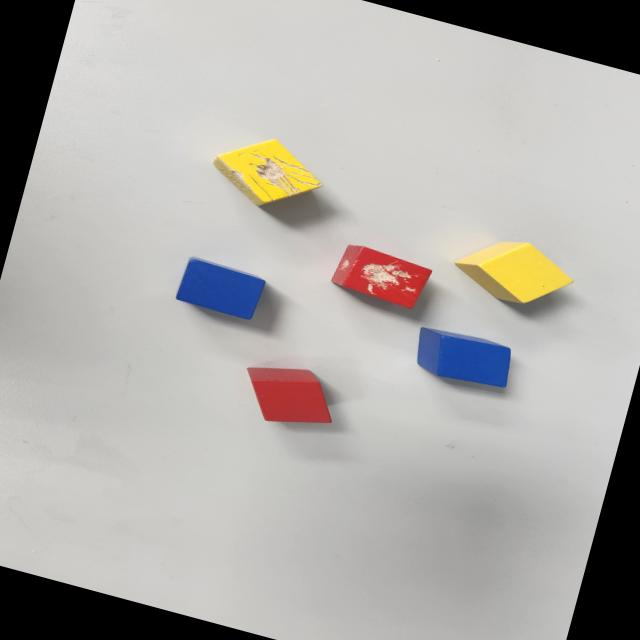blue: (408, 322, 514, 393), (174, 255, 266, 322)
broken: (205, 124, 328, 220), (329, 240, 435, 313)
red: (233, 353, 343, 438)
yellow: (448, 226, 582, 316)
